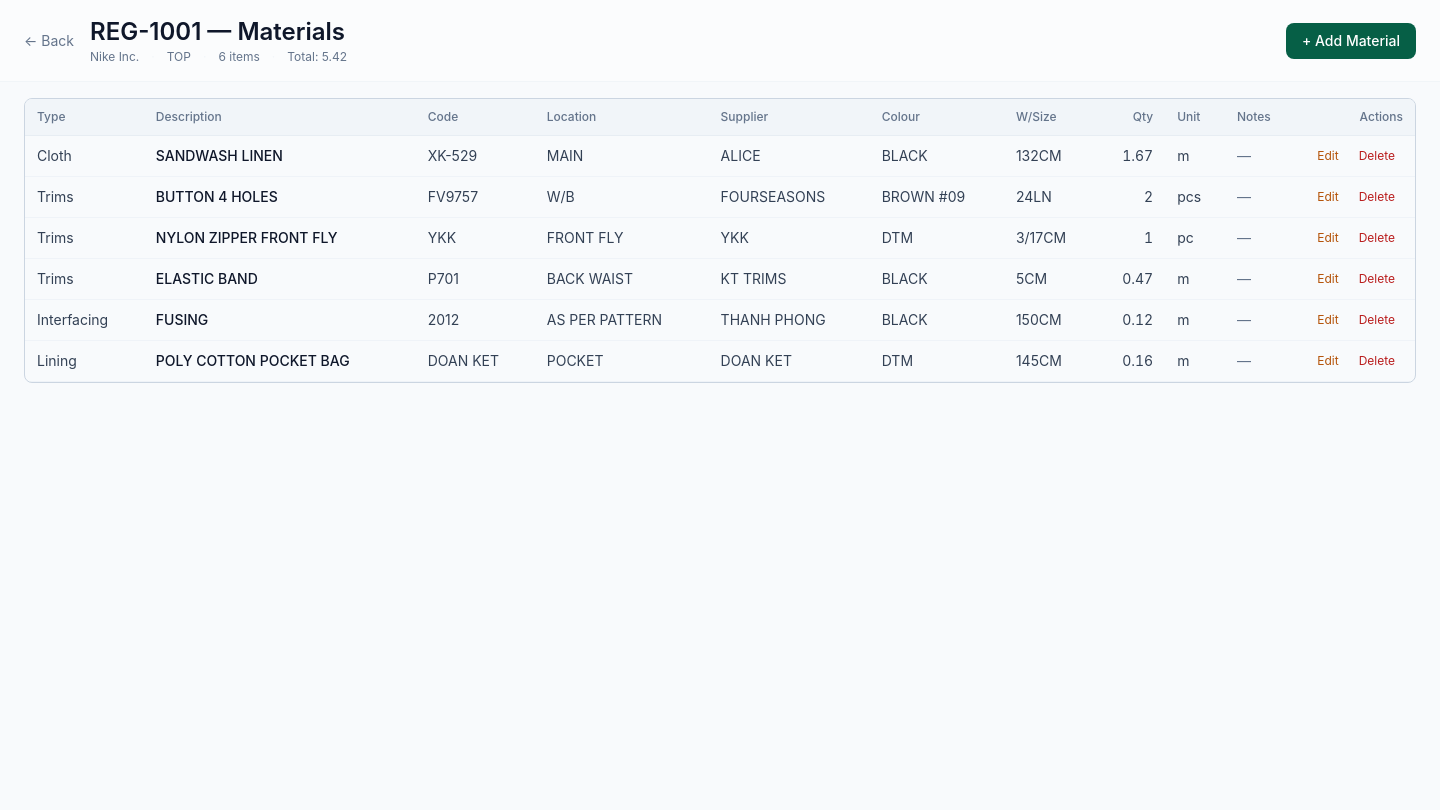
Test: DesignMaterialsPage › adds a new material via the form modal
The width and height of the screenshot is (1440, 810).
expect the text "SANDWASH LINEN" is shown: met, box [156,147,283,164]
Click the button "+ Add Material" at (1351, 41), box [1286,23,1416,59]
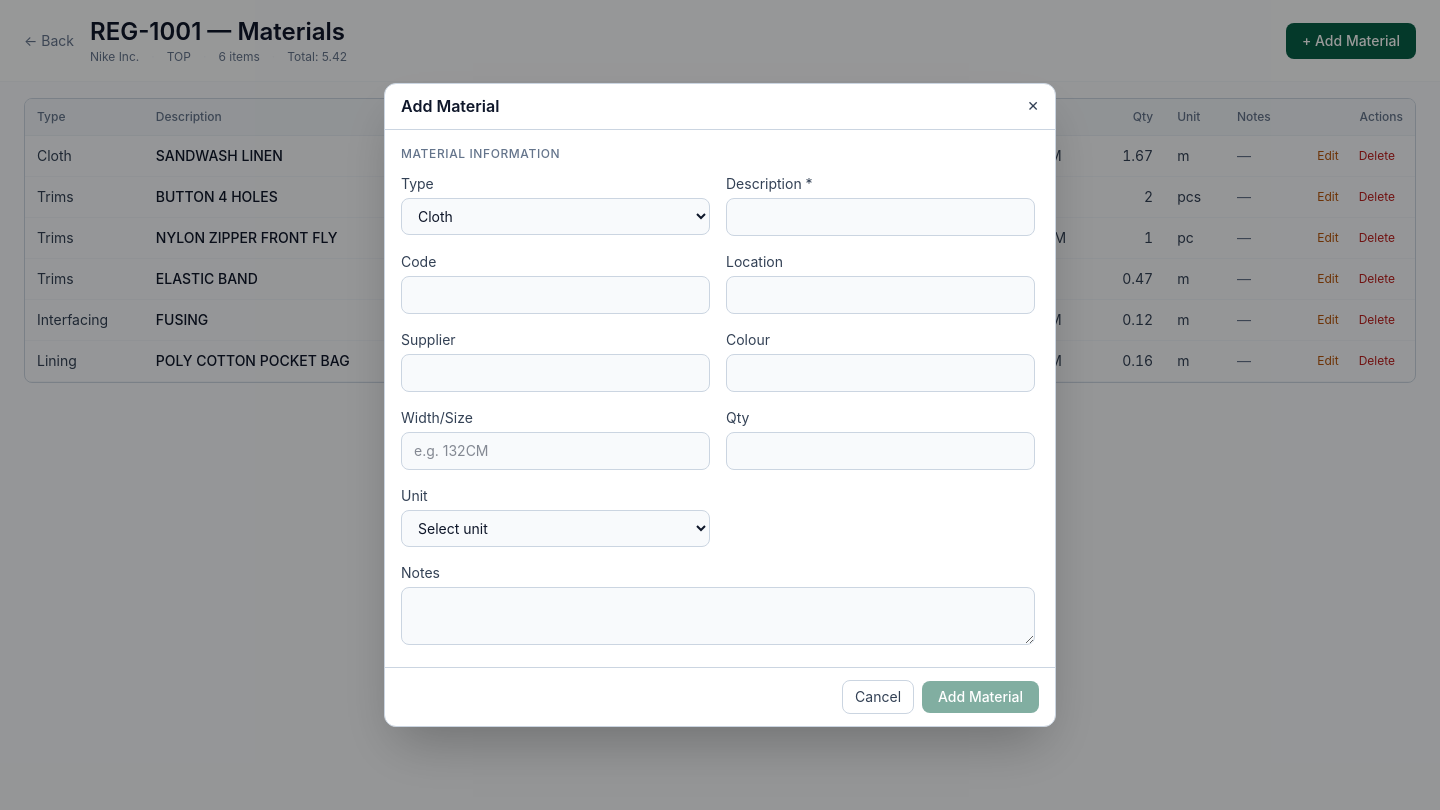
Type "TEST FABRIC" into the field labelled "Description *" at (880, 217), box [726,198,1035,236]
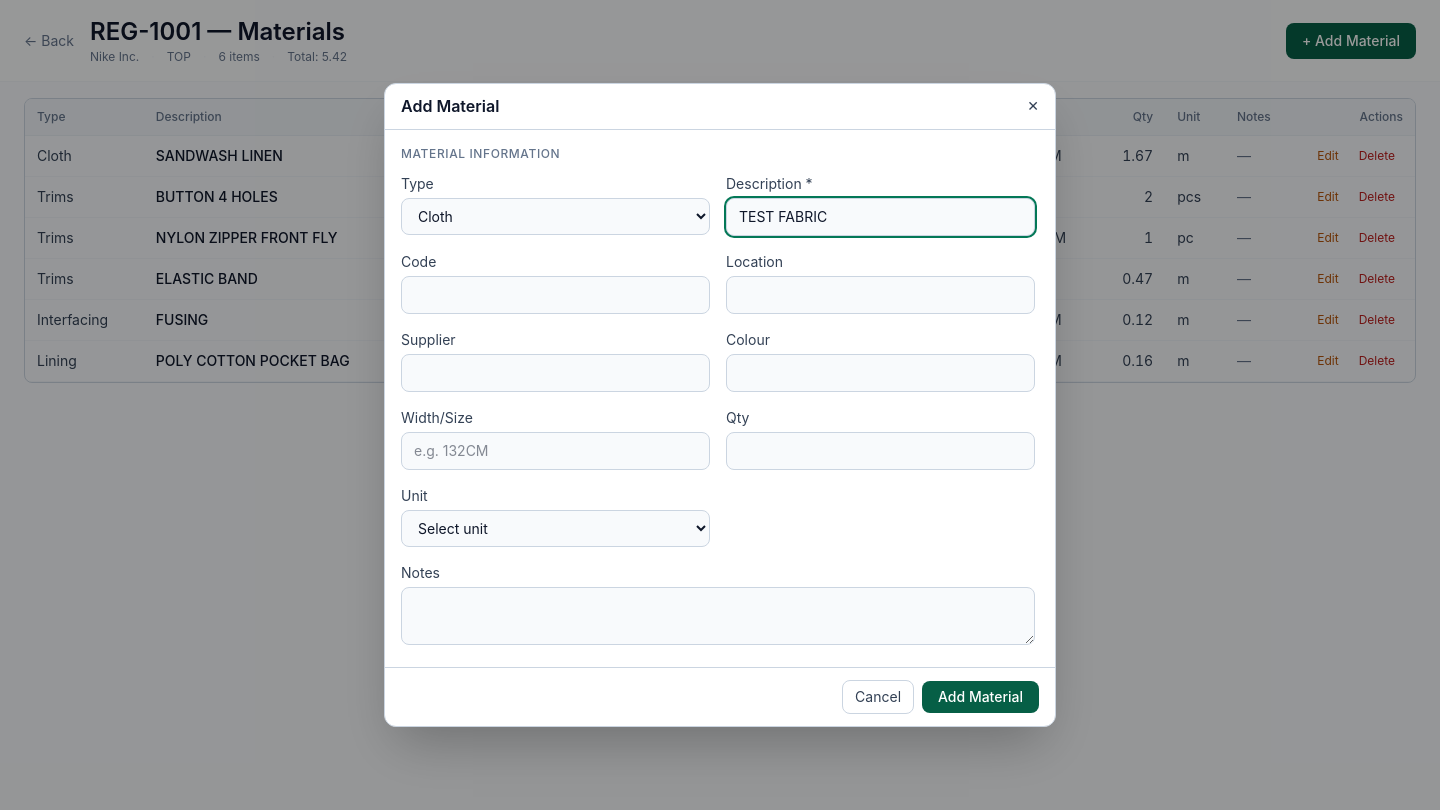
Type "TF-001" into the field labelled "Code" at (556, 295), box [401,276,710,314]
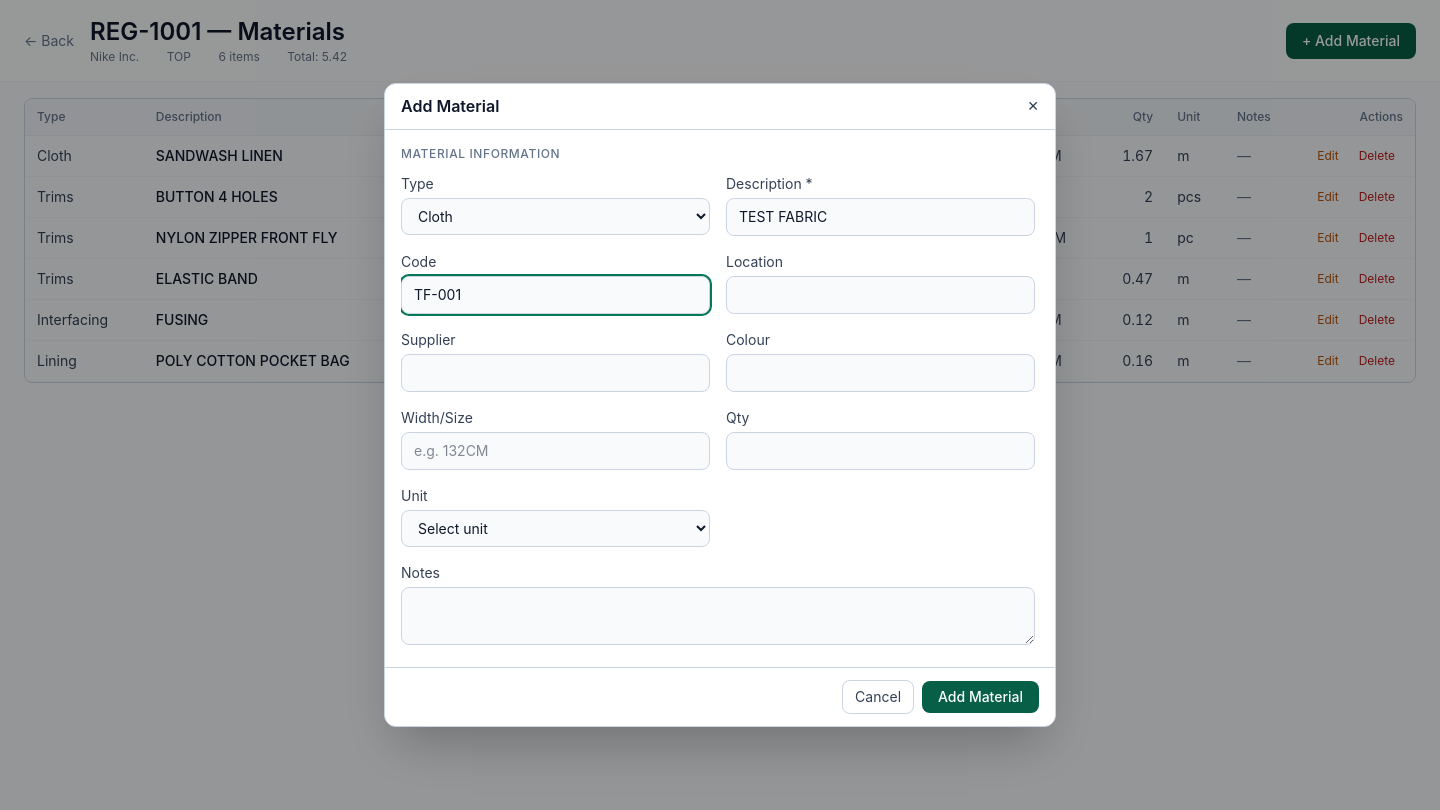
Type "TEST SUPPLIER" into the field labelled "Supplier" at (556, 373), box [401,354,710,392]
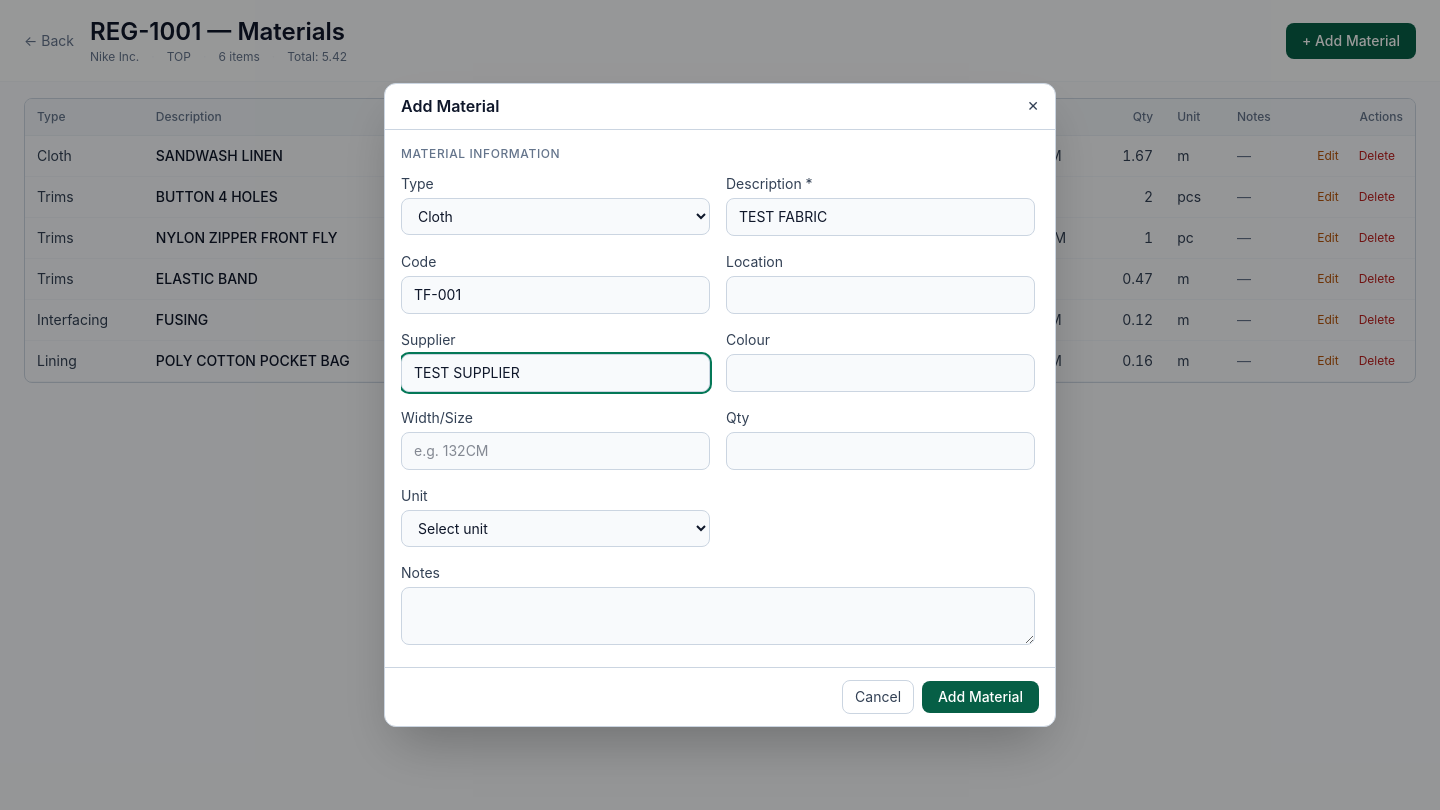
Click the button "Add Material" at (980, 697), box [922,681,1039,713]
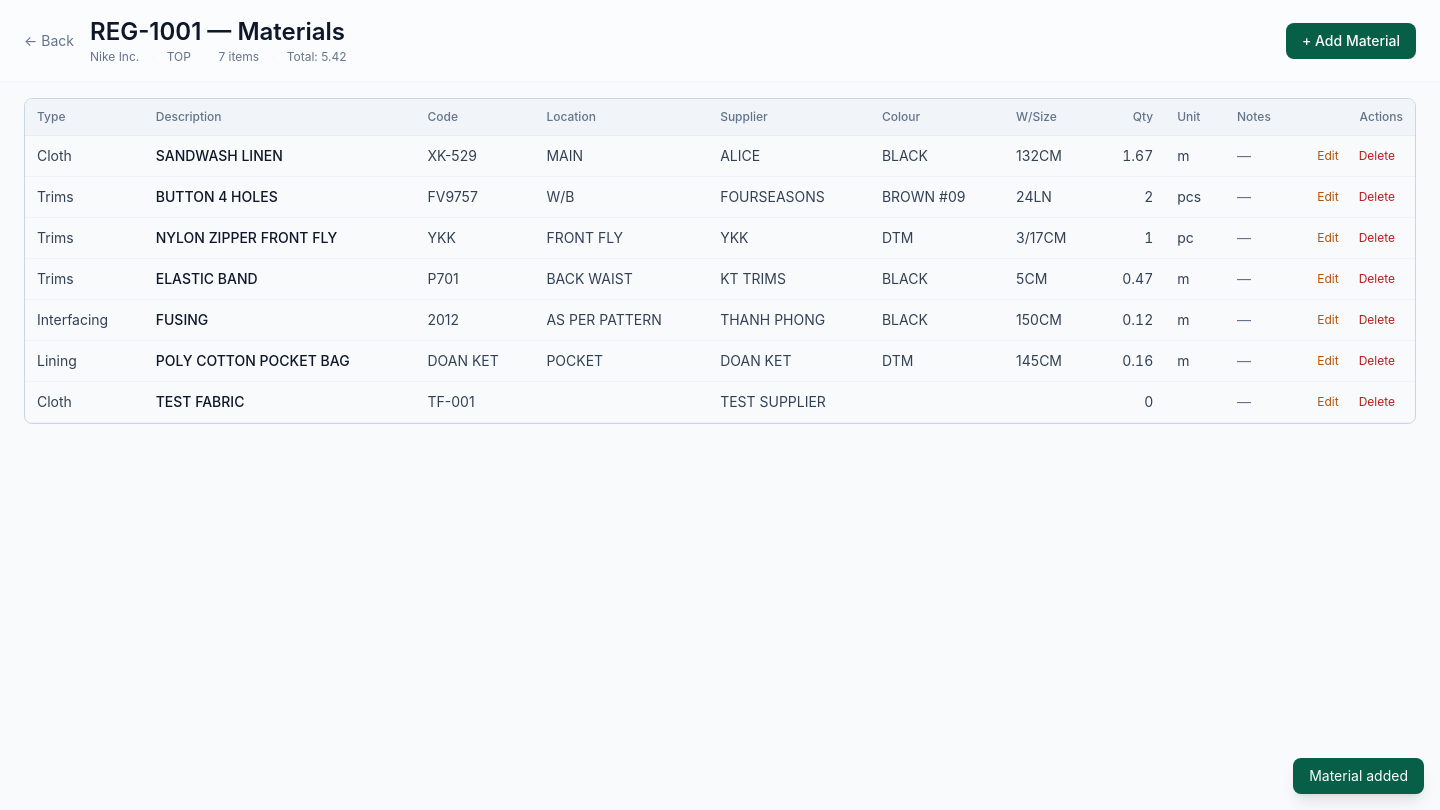
expect the text "TEST FABRIC" is shown: met, box [156,393,244,410]
expect the text "TF-001" is shown: met, box [416,382,534,423]
expect the text "TEST SUPPLIER" is shown: met, box [708,382,870,423]
